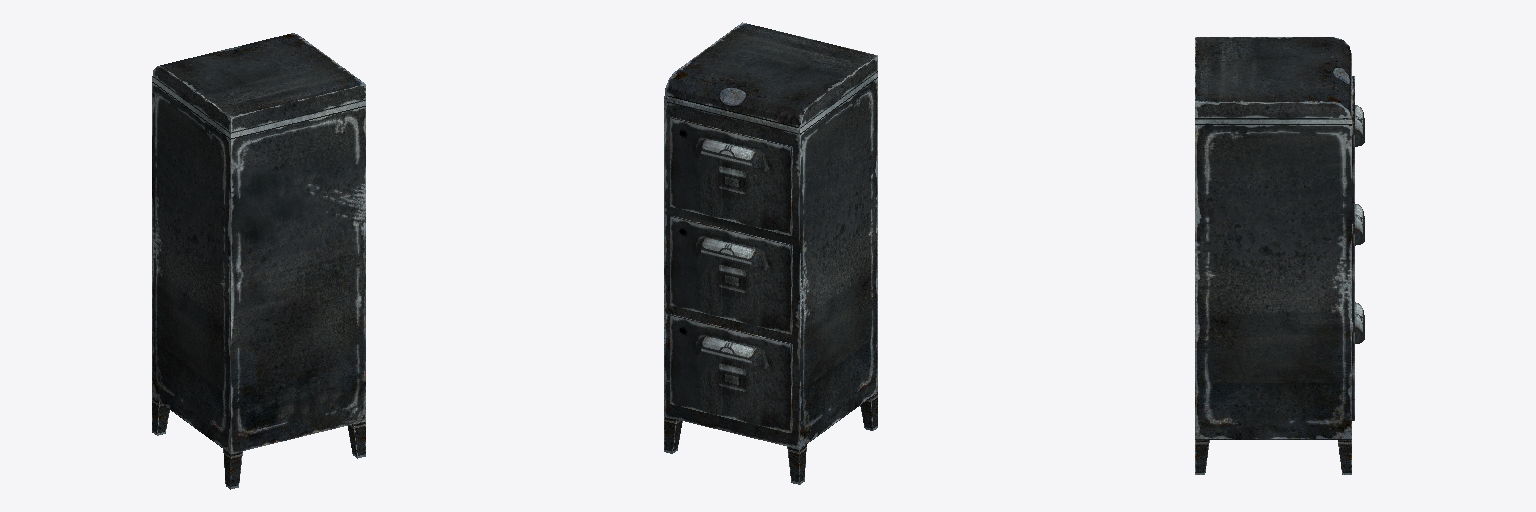
3 views of the same model, side by side, from view 1: azimuth 30°, elevation 25°; view 2: azimuth 150°, elevation 25°; view 3: azimuth 270°, elevation 25° (orthographic).
Parts seen in each view (by area): view 1: Cabinet; view 2: Cabinet; view 3: Cabinet.
Part boxes in pixels (left/top/right/bottom): Cabinet: left=152, top=33, right=365, bottom=489; Cabinet: left=664, top=22, right=877, bottom=484; Cabinet: left=1195, top=37, right=1364, bottom=474.
Size of the model in its own units: 56 by 147 by 60.5.
1 materials, 1 textured.